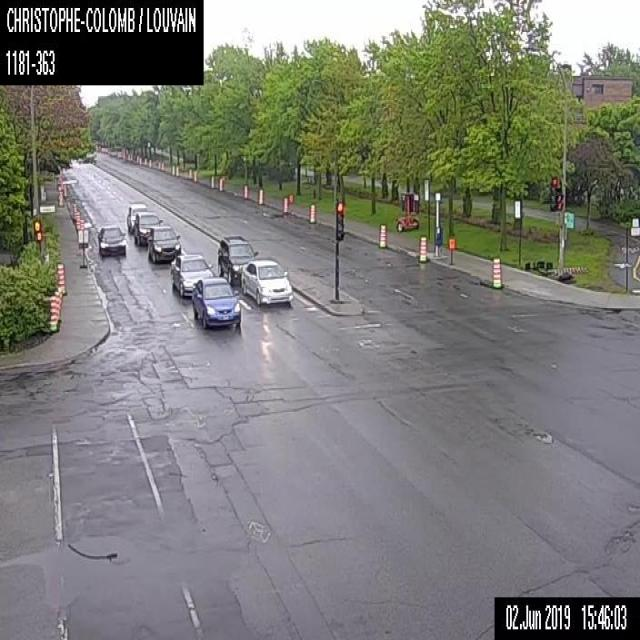construction: (396, 191, 418, 232), (77, 228, 88, 268), (48, 297, 58, 331), (56, 261, 66, 295), (492, 257, 502, 289), (53, 291, 61, 322), (418, 235, 427, 262), (378, 222, 385, 248), (308, 203, 316, 223), (74, 211, 80, 230), (282, 196, 288, 213), (257, 188, 263, 204), (58, 190, 64, 206), (242, 184, 248, 199), (72, 202, 76, 222), (78, 218, 84, 229), (218, 177, 222, 190), (210, 175, 214, 188), (193, 169, 196, 181), (188, 168, 191, 180), (175, 164, 178, 176), (171, 164, 174, 175)
vehicle: (192, 276, 240, 328), (241, 258, 292, 306), (169, 252, 214, 298), (218, 234, 258, 284), (146, 225, 180, 262), (132, 212, 162, 245), (96, 224, 126, 256), (126, 202, 147, 233)
